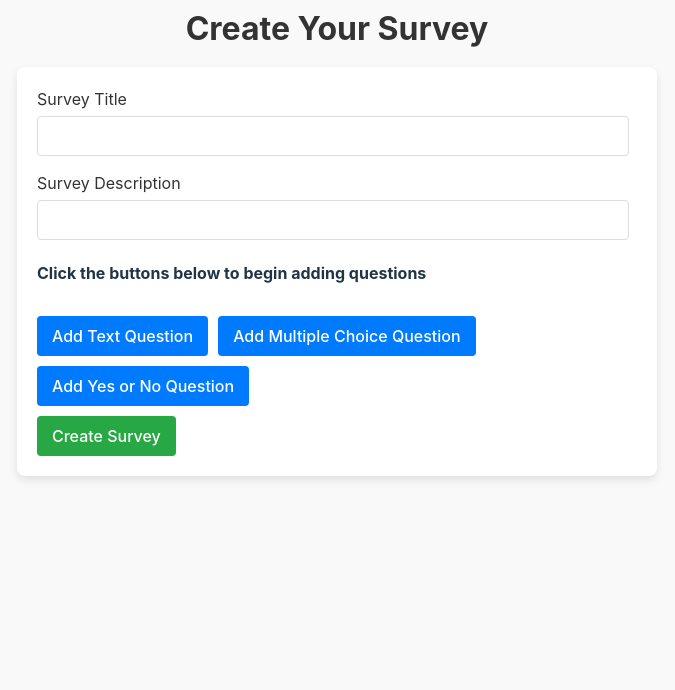
Test case: NewSurveyForm component › adds a new MULITPLE CHOICE question
The image size is (675, 690).
Click the button "Add Multiple Choice Question" at (347, 336), box [218,316,476,356]
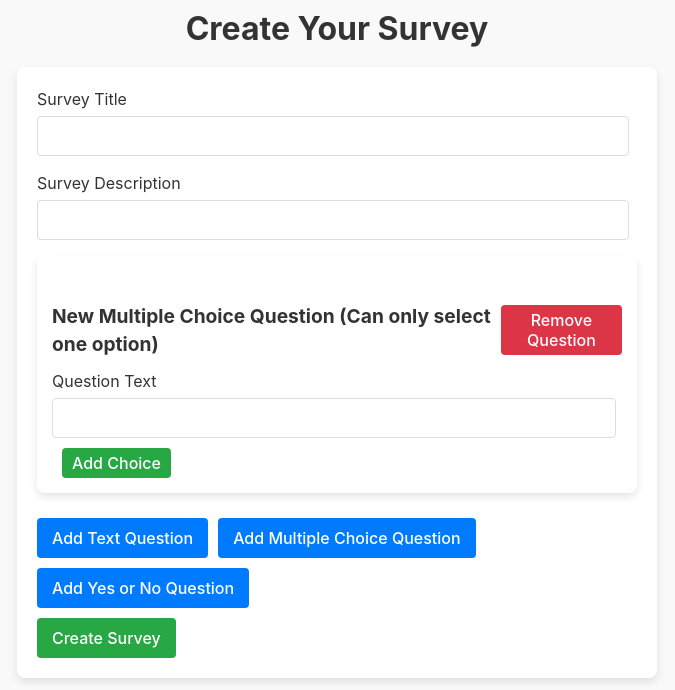
Check: the heading "New Multiple Choice Question (Can only select one option)" is shown, box [52,304,491,356]
Check: the button "Remove Question" is shown, box [501,306,622,356]
Check: the button "Add Choice" is shown, box [62,448,171,478]
